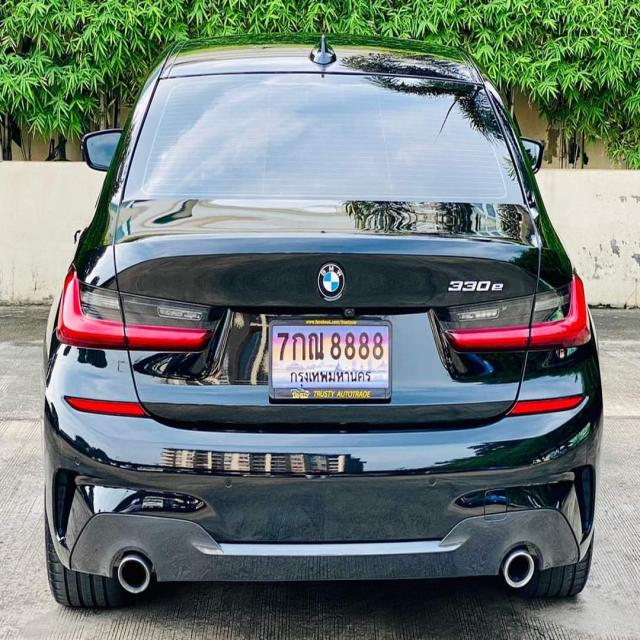license_plate: (268, 316, 394, 403)
